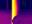Hotspot: (12, 0, 17, 20)
